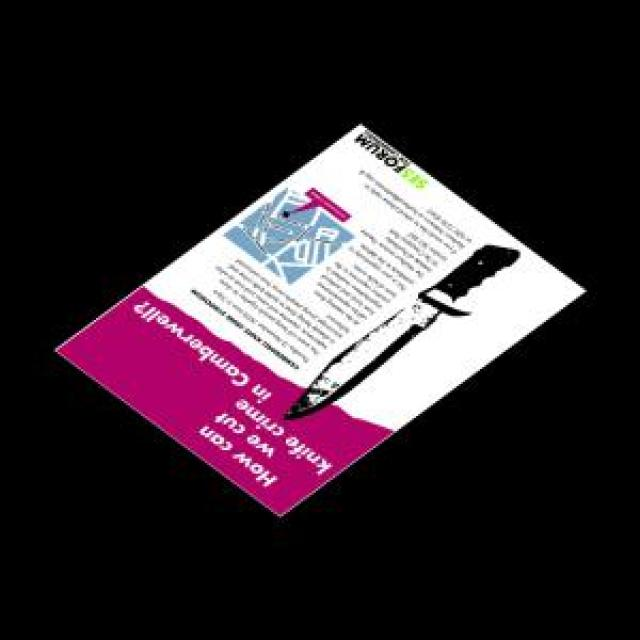knife: (277, 241, 523, 422)
